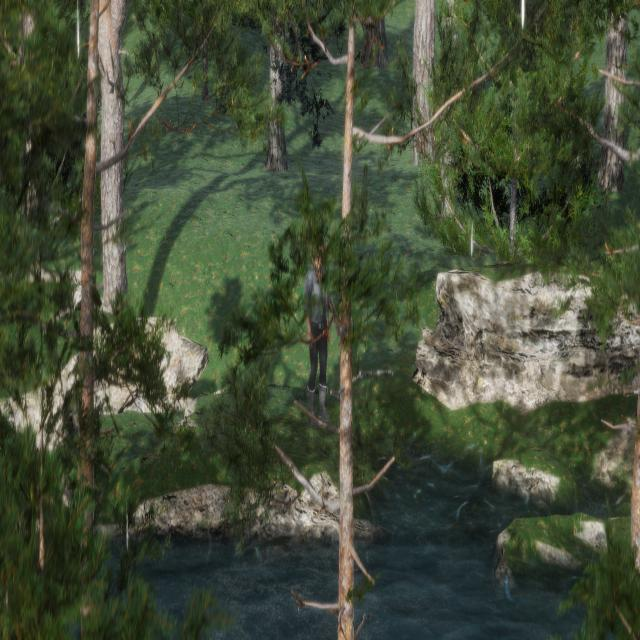Human: (290, 231, 334, 434)
